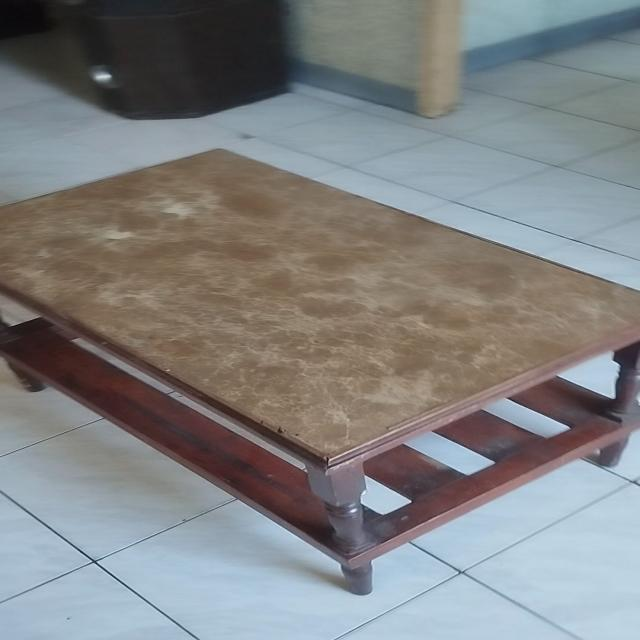table: (0, 132, 640, 608)
